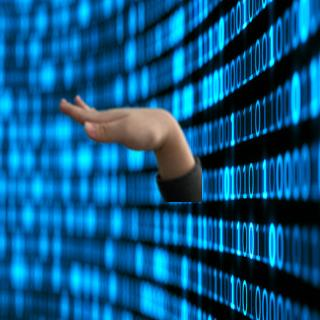Wait: (52, 86, 186, 161)
